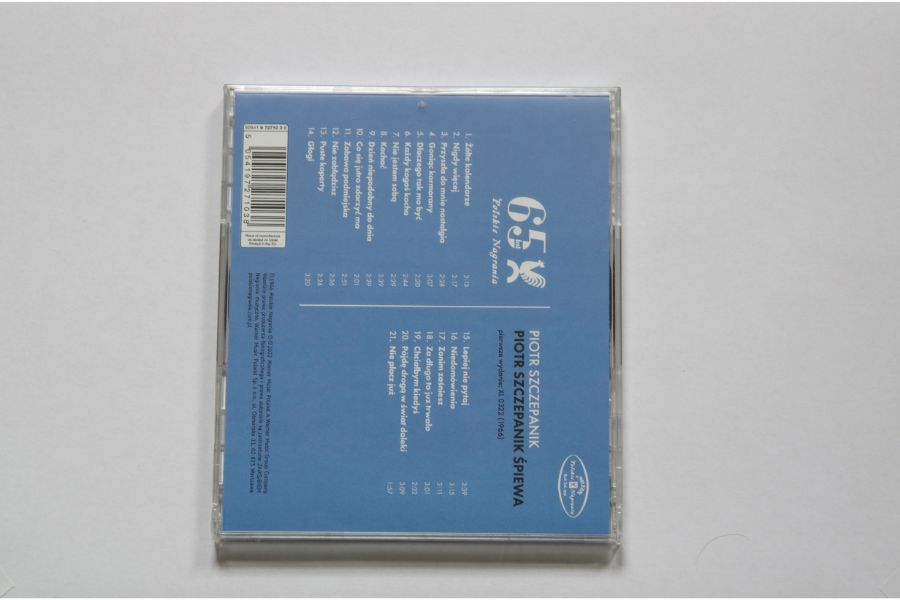album: (208, 80, 629, 547)
